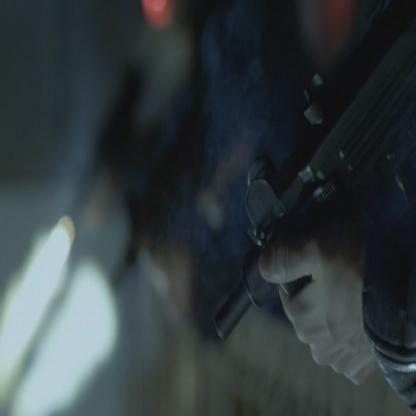Gun: (210, 6, 415, 344)
